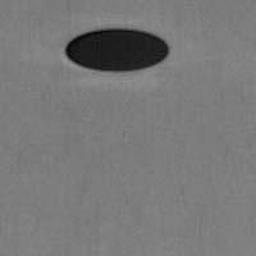Punching: (64, 28, 170, 72)
